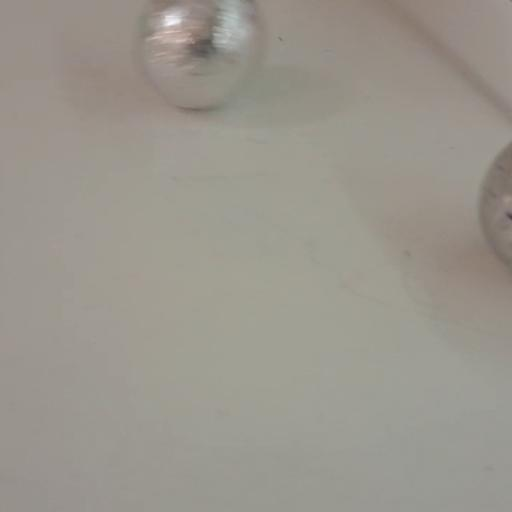alive: (131, 0, 267, 110), (478, 138, 512, 278)
